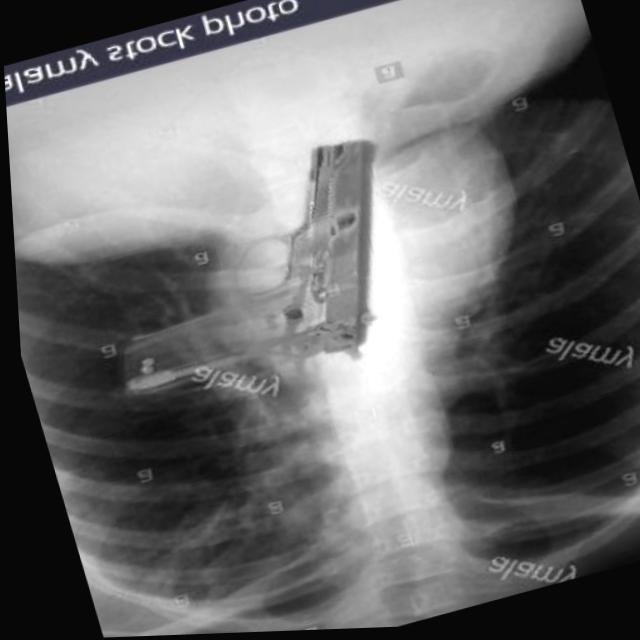gun: (61, 135, 434, 423)
